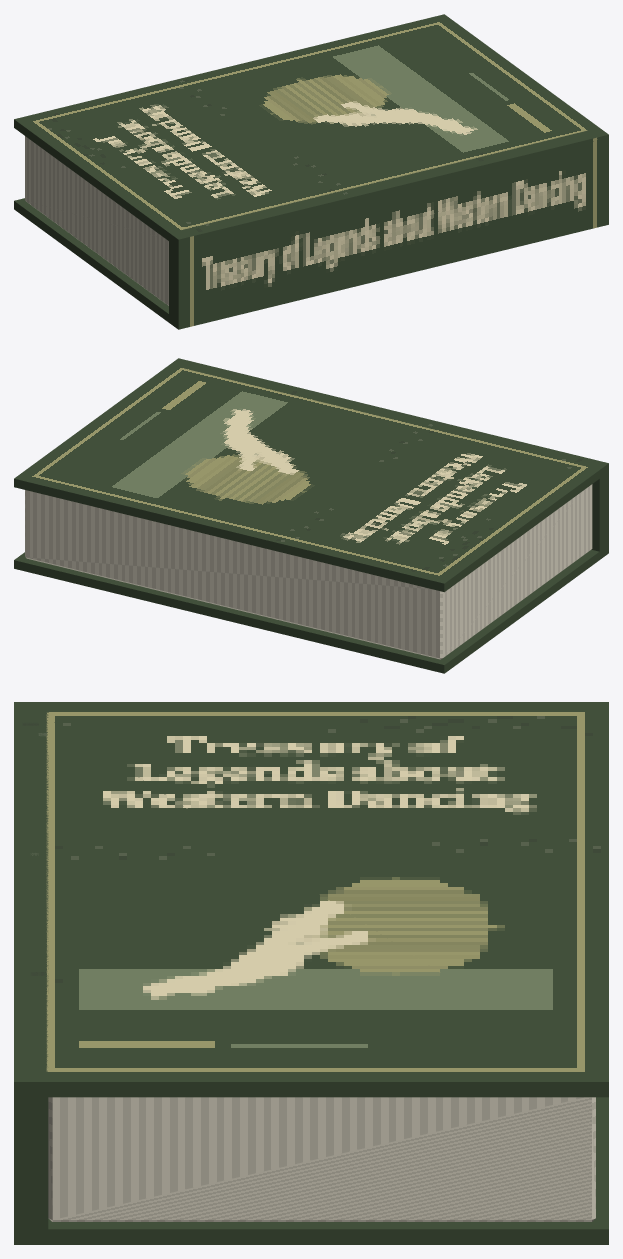
Rendered from book_nonf_hard_dodge_tlwd.glb.
3 renders of one model, top to bottom at view 1: azimuth 30°, elevation 25°; view 2: azimuth 150°, elevation 25°; view 3: azimuth 270°, elevation 25°, orthographic. The views are drawn at different scales.
Parts seen in each view (by area): view 1: block_front, block_spine, block_pages, block_back; view 2: block_front, block_pages, block_back, block_spine; view 3: block_front, block_pages, block_spine, block_back.
Boxes of the visible parts, box(x1,y1,x2,y2) form: block_front: box(14, 14, 606, 245); block_spine: box(169, 127, 608, 329); block_pages: box(25, 136, 168, 305); block_back: box(14, 198, 175, 327); block_front: box(14, 360, 606, 592); block_pages: box(25, 484, 592, 659); block_back: box(14, 547, 606, 673); block_spine: box(173, 358, 608, 554); block_front: box(22, 702, 608, 1097); block_pages: box(48, 1097, 595, 1221); block_spine: box(14, 702, 48, 1244); block_back: box(22, 1097, 608, 1244).
Size of the model in its own units: 0.2661 by 0.0532 by 0.1761.
1 material, 1 textured.
